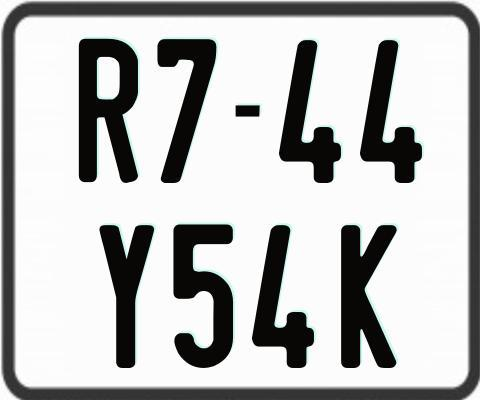4: (250, 225, 318, 373), (357, 38, 422, 186), (276, 37, 340, 183)
5: (170, 222, 236, 370)
7: (154, 39, 217, 186)
K: (338, 223, 394, 369)
R: (78, 37, 138, 187)
Y: (97, 222, 155, 371)
